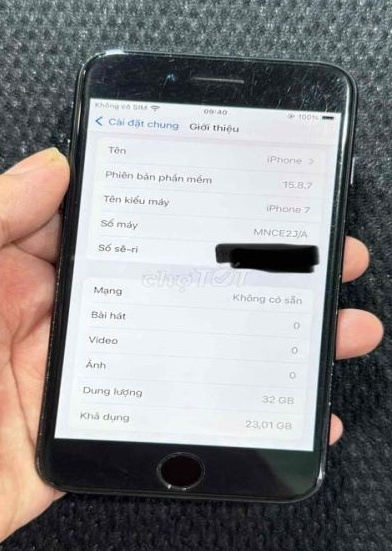scratch: (72, 51, 353, 127), (34, 227, 60, 489), (147, 450, 210, 491), (315, 348, 347, 413), (291, 455, 333, 498)
